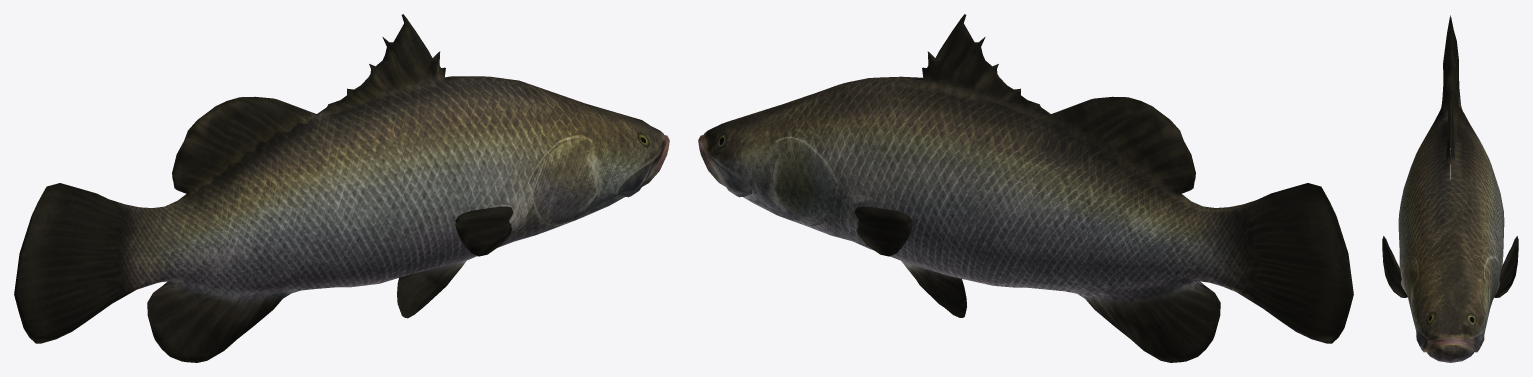
The model's file is school.glb.
3 views of the same model, side by side, from view 1: azimuth 30°, elevation 25°; view 2: azimuth 150°, elevation 25°; view 3: azimuth 270°, elevation 25° (orthographic). The views are drawn at different scales.
Parts seen in each view (by area): view 1: BarramundiBody; view 2: BarramundiBody; view 3: BarramundiBody.
Part boxes in pixels (box(x1,y1,x2,y2)): BarramundiBody: box(14, 14, 669, 362); BarramundiBody: box(698, 14, 1353, 362); BarramundiBody: box(1382, 15, 1518, 362).
Size of the model in its own units: 2 by 0.8932 by 0.4431.
Materials: 1 (1 with a texture image).
